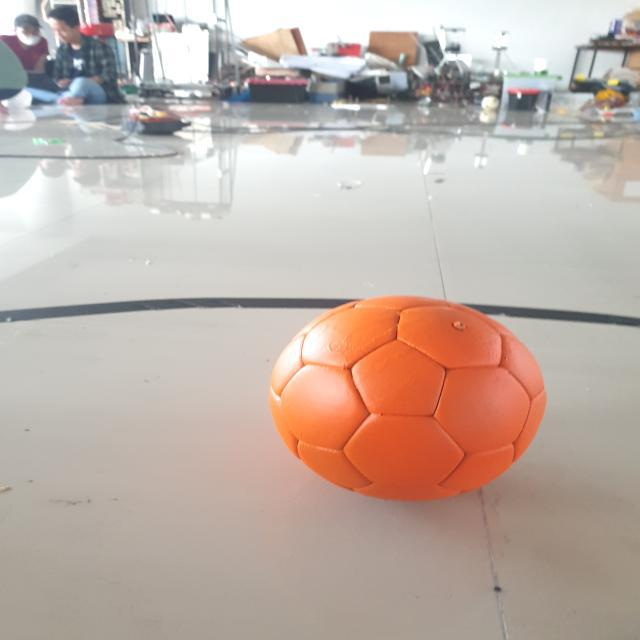bola: (256, 287, 554, 509)
